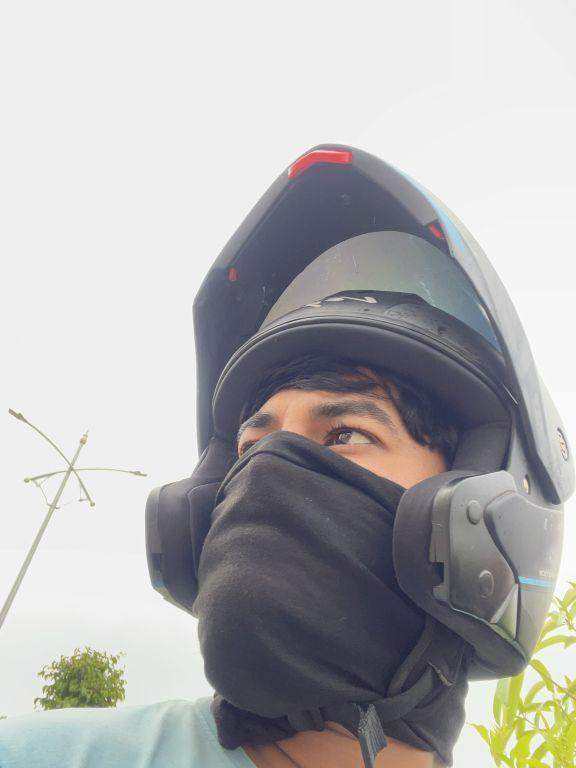helmet: (132, 124, 576, 768)
